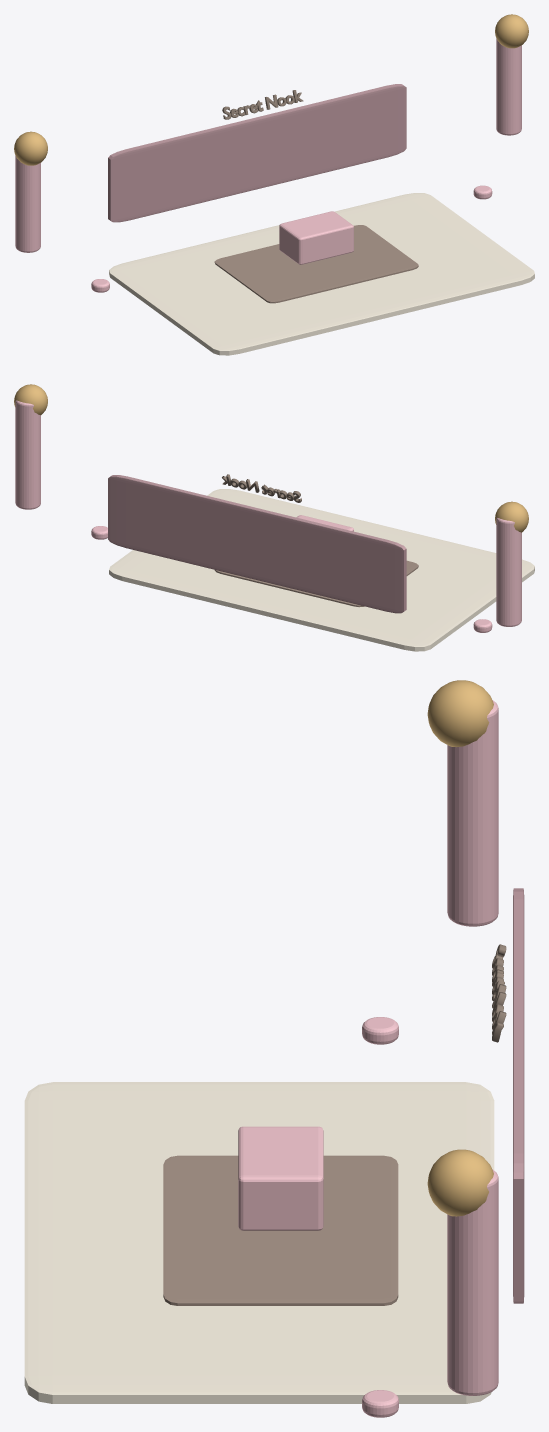
The model's file is 11_sub_scenes.glb.
The picture shows the model from 3 angles, top to bottom: view 1: azimuth 30°, elevation 25°; view 2: azimuth 150°, elevation 25°; view 3: azimuth 270°, elevation 25°; orthographic projection. The views are drawn at different scales.
Visible parts, largest first — view 1: PaperFloor-col, BackCard, StageMat, SecretNook, PaperLantern, PaperLantern.001, LanternGlow, LanternGlow.001, TitleLabel; view 2: BackCard, PaperFloor-col, PaperLantern.001, PaperLantern, TitleLabel, LanternGlow, LanternGlow.001, StageMat; view 3: PaperFloor-col, StageMat, PaperLantern, PaperLantern.001, SecretNook, BackCard, LanternGlow.001, LanternGlow, TitleLabel, CardConfetti, CardConfetti.001.
Part boxes in pixels (bbox=[...]): PaperFloor-col: bbox=[109, 193, 534, 355]; BackCard: bbox=[108, 84, 406, 222]; StageMat: bbox=[214, 225, 418, 303]; SecretNook: bbox=[279, 211, 353, 264]; PaperLantern: bbox=[15, 155, 40, 252]; PaperLantern.001: bbox=[496, 38, 521, 135]; LanternGlow: bbox=[14, 131, 47, 165]; LanternGlow.001: bbox=[495, 14, 528, 48]; TitleLabel: bbox=[222, 90, 303, 119]; BackCard: bbox=[108, 475, 406, 613]; PaperFloor-col: bbox=[109, 489, 534, 651]; PaperLantern.001: bbox=[15, 400, 40, 509]; PaperLantern: bbox=[496, 518, 521, 626]; TitleLabel: bbox=[222, 474, 301, 502]; LanternGlow: bbox=[495, 501, 528, 532]; LanternGlow.001: bbox=[14, 384, 47, 415]; StageMat: bbox=[214, 560, 418, 607]; PaperFloor-col: bbox=[24, 1082, 494, 1403]; StageMat: bbox=[163, 1155, 398, 1305]; PaperLantern: bbox=[447, 700, 498, 926]; PaperLantern.001: bbox=[447, 1169, 498, 1395]; SecretNook: bbox=[238, 1126, 323, 1230]; BackCard: bbox=[513, 888, 524, 1303]; LanternGlow.001: bbox=[427, 1149, 493, 1216]; LanternGlow: bbox=[427, 680, 493, 747]; TitleLabel: bbox=[492, 944, 506, 1042]; CardConfetti: bbox=[362, 1017, 398, 1044]; CardConfetti.001: bbox=[362, 1390, 398, 1417].
Bounding box in the file's own units: 8.28 × 2.56 × 3.51.
